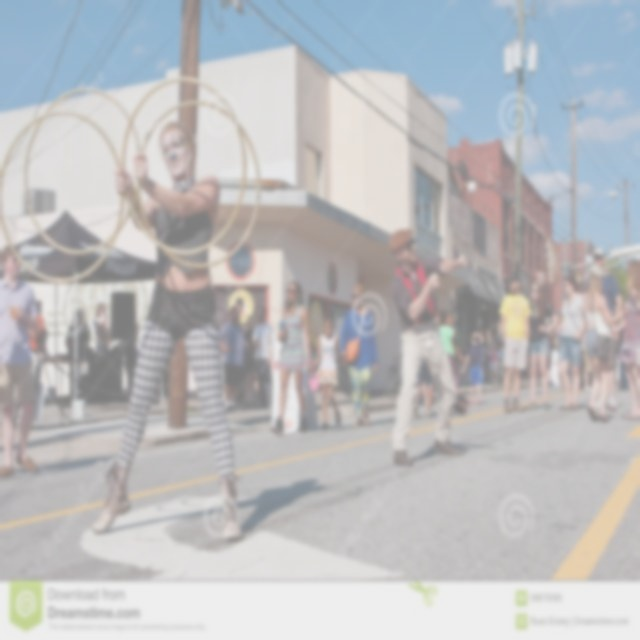pessoa: (90, 120, 244, 544), (384, 225, 470, 471), (120, 474, 334, 538), (0, 242, 41, 480), (579, 260, 633, 424), (268, 278, 314, 439), (581, 246, 624, 411), (336, 281, 381, 431), (0, 309, 46, 436), (552, 272, 590, 413), (496, 270, 531, 416), (610, 256, 640, 419), (306, 314, 346, 432), (526, 280, 561, 412), (218, 304, 248, 413), (249, 304, 275, 412), (66, 307, 92, 402), (438, 308, 466, 396), (118, 304, 142, 402), (241, 314, 263, 406), (409, 440, 495, 462), (460, 330, 484, 406), (412, 359, 436, 419), (577, 334, 596, 394), (92, 303, 112, 357), (615, 321, 630, 393), (487, 340, 505, 384), (545, 334, 555, 389), (566, 350, 576, 398), (235, 296, 244, 327)
